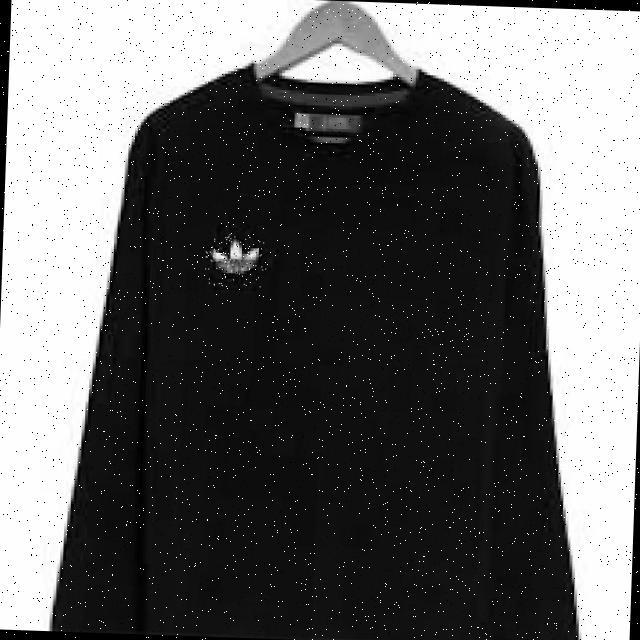Adidas: (203, 232, 267, 288)
